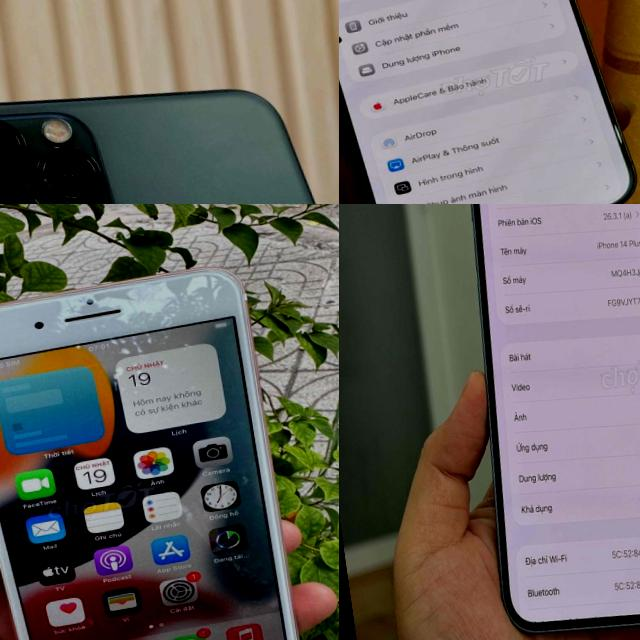gen_11: (0, 26, 339, 204)
gen_14: (439, 204, 640, 640)
gen_16: (339, 0, 632, 204)
gen_7_8: (0, 260, 313, 640)
